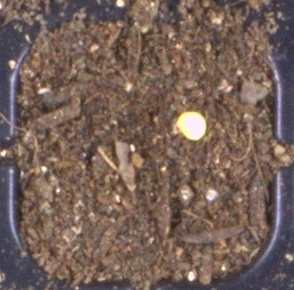chilli seed: (176, 111, 207, 141)
